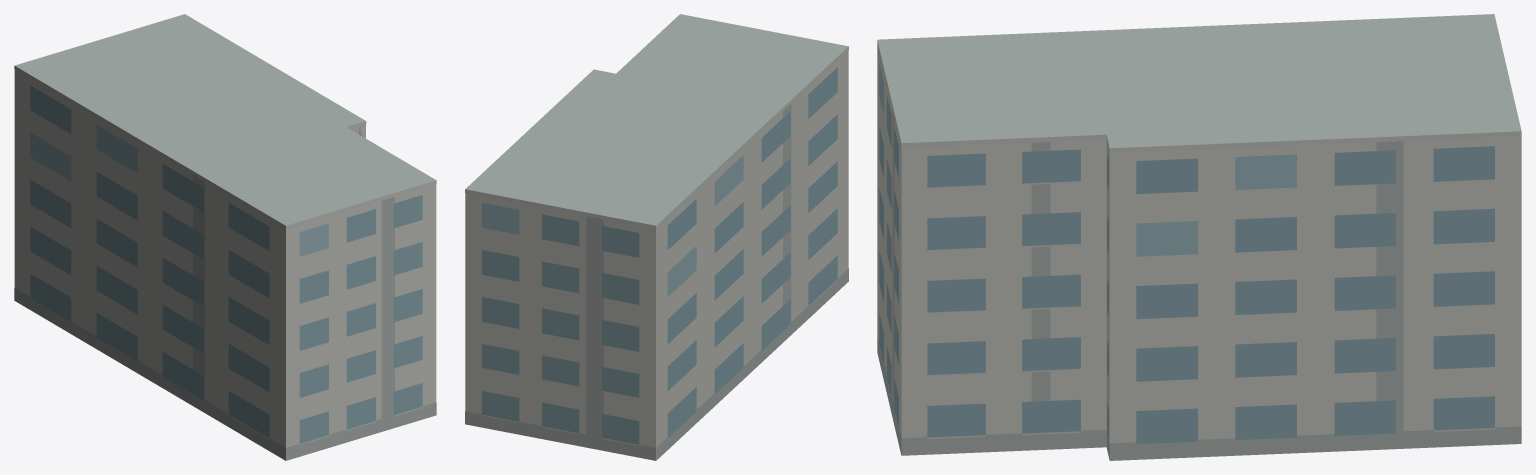
Rendered from residential-01f3f16f-2c7c-4eb9-aa1a-909583016663.glb.
The picture shows the model from 3 angles, left to right: view 1: azimuth 30°, elevation 25°; view 2: azimuth 150°, elevation 25°; view 3: azimuth 270°, elevation 25°; orthographic projection. The views are drawn at different scales.
Parts seen in each view (by area): view 1: residential-01f3f16f-2c7c-4eb9-aa1a-909583016663.tmp; view 2: residential-01f3f16f-2c7c-4eb9-aa1a-909583016663.tmp; view 3: residential-01f3f16f-2c7c-4eb9-aa1a-909583016663.tmp.
Boxes of the visible parts, x1=… form: residential-01f3f16f-2c7c-4eb9-aa1a-909583016663.tmp: x1=14, y1=14, x2=436, y2=460; residential-01f3f16f-2c7c-4eb9-aa1a-909583016663.tmp: x1=465, y1=14, x2=848, y2=460; residential-01f3f16f-2c7c-4eb9-aa1a-909583016663.tmp: x1=877, y1=14, x2=1521, y2=460.
Bounding box in the file's own units: 14.06 × 15.25 × 28.5.
